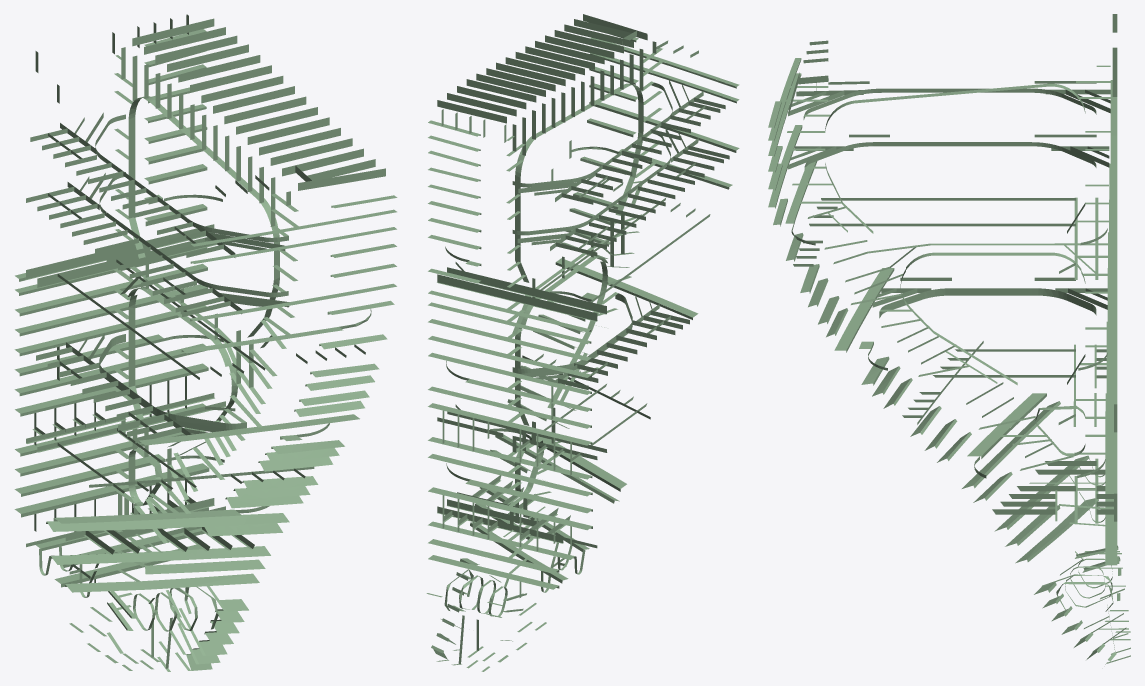
The model's file is NO_1_DIESEL_OIL_TK_SB.glb.
3 renders of one model, left to right at view 1: azimuth 30°, elevation 25°; view 2: azimuth 150°, elevation 25°; view 3: azimuth 270°, elevation 25°, orthographic. The views are drawn at different scales.
Parts seen in each view (by area): view 1: ST_OuterShellxEPRSxL40xWeb_002002-IA_570.5x150x10.5x25.5_NVA, ST_OuterShellxEPRSxL37A2xWeb_001002-IA_571x150x10.5x26_NVA32, ST_OuterShellxEPRSxL41xWeb_001002-IA_629x150x11.5x34_NVA32_1, ST_2ndDeckxEPRSxL14xWeb_003002-TW_395x11+125x11_NVA_1993, ST_2ndDeckxEPRSxL15xWeb_002002-TW_395x11+125x11_NVA_1993, ST_OuterShellxEPRSxL36A1xWeb_001002-IA_569x150x10.5x24_NVA32, ST_OuterShellxEPRSxL48xWeb_001002-IA_522x125x10x27_NVA32_199, ST_OuterShellxEPRSxL39xWeb_001004-IA_569x150x10.5x24_NVA32_1, ST_OuterShellxEPRSxL40xWeb_002004-IA_570.5x150x10.5x25.5_NVA, ST_OuterShellxEPRSxL37A2xWeb_001004-IA_571x150x10.5x26_NVA32, ST_OuterShellxEPRSxL37A1xWeb_001004-IA_566x150x10.5x21_NVA32, ST_OuterShellxEPRSxL36A1xWeb_001004-IA_569x150x10.5x24_NVA32 (+18 smaller); view 2: ST_2ndDeckxEPRSxL14xWeb_003002-TW_395x11+125x11_NVA_1993, ST_2ndDeckxEPRSxL15xWeb_002002-TW_395x11+125x11_NVA_1993, ST_OuterShellxEPRSxL48xWeb_001002-IA_522x125x10x27_NVA32_199, ST_OuterShellxEPRSxL41xWeb_001002-IA_629x150x11.5x34_NVA32_1, ST_LBHDxEPRSxL40xWeb_002001-IA_520.5x150x11x25.5_NVA32_1993, ST_LBHDxEPRSxL41xWeb_002001-IA_518x125x11x23_NVA32_1993, ST_LBHDxEPRSxL45xWeb_002001-IA_467.5x125x11x22.5_NVA32_1993, ST_LBHDxEPRSxL42xWeb_002001-IA_472x125x11x27_NVA32_1993, ST_LBHDxEPRSxL36xWeb_068002-IA_520x150x11x25_NVA32_1993, ST_LBHDxEPRSxL37xWeb_068002-IA_519x150x11x24_NVA32_1993; view 3: ST_OuterShellxEPRSxL41xWeb_001002-IA_629x150x11.5x34_NVA32_1, ST_OuterShellxEPRSxL48xWeb_001002-IA_522x125x10x27_NVA32_199, ST_2ndDeckxEPRS_004001-FB_125x12_NVA_1993, FP_HG48xEPRS_004001-L_350x23.5_NVA_1993.
Boxes of the visible parts, x1=… form: ST_OuterShellxEPRSxL40xWeb_002002-IA_570.5x150x10.5x25.5_NVA: x1=47, y1=517, x2=216, y2=531; ST_OuterShellxEPRSxL37A2xWeb_001002-IA_571x150x10.5x26_NVA32: x1=51, y1=550, x2=196, y2=564; ST_OuterShellxEPRSxL41xWeb_001002-IA_629x150x11.5x34_NVA32_1: x1=54, y1=510, x2=223, y2=523; ST_2ndDeckxEPRSxL14xWeb_003002-TW_395x11+125x11_NVA_1993: x1=26, y1=238, x2=155, y2=279; ST_2ndDeckxEPRSxL15xWeb_002002-TW_395x11+125x11_NVA_1993: x1=37, y1=247, x2=166, y2=287; ST_OuterShellxEPRSxL36A1xWeb_001002-IA_569x150x10.5x24_NVA32: x1=65, y1=579, x2=184, y2=592; ST_OuterShellxEPRSxL48xWeb_001002-IA_522x125x10x27_NVA32_199: x1=139, y1=423, x2=293, y2=445; ST_OuterShellxEPRSxL39xWeb_001004-IA_569x150x10.5x24_NVA32_1: x1=204, y1=523, x2=282, y2=536; ST_OuterShellxEPRSxL40xWeb_002004-IA_570.5x150x10.5x25.5_NVA: x1=210, y1=513, x2=289, y2=526; ST_OuterShellxEPRSxL37A2xWeb_001004-IA_571x150x10.5x26_NVA32: x1=190, y1=546, x2=270, y2=559; ST_OuterShellxEPRSxL37A1xWeb_001004-IA_566x150x10.5x21_NVA32: x1=185, y1=559, x2=265, y2=572; ST_OuterShellxEPRSxL36A1xWeb_001004-IA_569x150x10.5x24_NVA32: x1=179, y1=573, x2=259, y2=587; ST_2ndDeckxEPRSxL14xWeb_003002-TW_395x11+125x11_NVA_1993: x1=487, y1=286, x2=597, y2=320; ST_2ndDeckxEPRSxL15xWeb_002002-TW_395x11+125x11_NVA_1993: x1=497, y1=279, x2=606, y2=313; ST_OuterShellxEPRSxL48xWeb_001002-IA_522x125x10x27_NVA32_199: x1=599, y1=276, x2=698, y2=317; ST_OuterShellxEPRSxL41xWeb_001002-IA_629x150x11.5x34_NVA32_1: x1=541, y1=438, x2=626, y2=488; ST_LBHDxEPRSxL40xWeb_002001-IA_520.5x150x11x25.5_NVA32_1993: x1=503, y1=505, x2=592, y2=530; ST_LBHDxEPRSxL41xWeb_002001-IA_518x125x11x23_NVA32_1993: x1=503, y1=488, x2=592, y2=513; ST_LBHDxEPRSxL45xWeb_002001-IA_467.5x125x11x22.5_NVA32_1993: x1=497, y1=420, x2=591, y2=445; ST_LBHDxEPRSxL42xWeb_002001-IA_472x125x11x27_NVA32_1993: x1=503, y1=472, x2=591, y2=496; ST_LBHDxEPRSxL36xWeb_068002-IA_520x150x11x25_NVA32_1993: x1=478, y1=567, x2=558, y2=589; ST_LBHDxEPRSxL37xWeb_068002-IA_519x150x11x24_NVA32_1993: x1=478, y1=551, x2=558, y2=573; ST_OuterShellxEPRSxL41xWeb_001002-IA_629x150x11.5x34_NVA32_1: x1=973, y1=393, x2=1046, y2=449; ST_OuterShellxEPRSxL48xWeb_001002-IA_522x125x10x27_NVA32_199: x1=848, y1=268, x2=893, y2=324; ST_2ndDeckxEPRS_004001-FB_125x12_NVA_1993: x1=809, y1=223, x2=963, y2=226; FP_HG48xEPRS_004001-L_350x23.5_NVA_1993: x1=879, y1=288, x2=949, y2=318.
Bounding box in the file's own units: 8.5 × 28.12 × 15.81.
